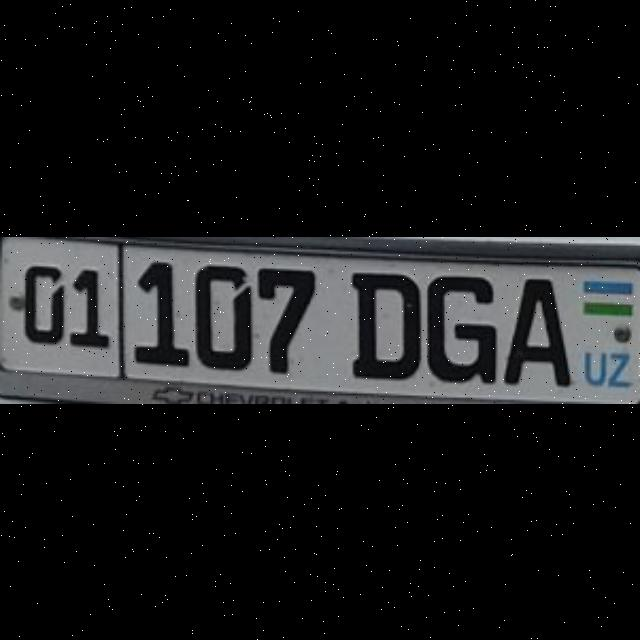0: (193, 262, 250, 368), (22, 264, 64, 342)
1: (132, 259, 186, 363), (68, 266, 108, 344)
7: (255, 266, 312, 372)
A: (500, 274, 570, 386)
D: (349, 270, 419, 376)
G: (425, 272, 495, 382)
